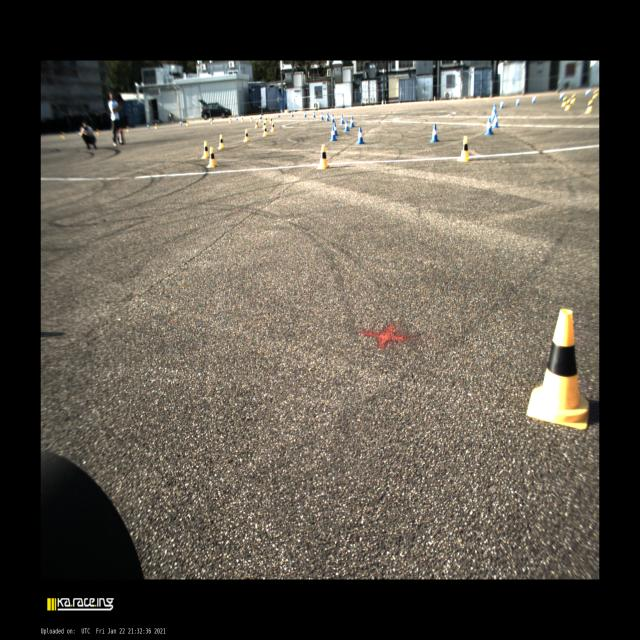blue_cone: (429, 124, 439, 142), (356, 127, 365, 145), (484, 117, 493, 135), (330, 126, 337, 141), (492, 114, 499, 128), (344, 120, 350, 132), (334, 123, 339, 136), (350, 116, 355, 127), (340, 114, 344, 124), (330, 114, 334, 123), (312, 111, 316, 118), (321, 112, 324, 120), (290, 110, 294, 116), (326, 114, 329, 121), (303, 111, 306, 117)
yellow_cone: (527, 310, 589, 430), (457, 136, 471, 162), (317, 144, 330, 168), (206, 147, 216, 168), (201, 141, 209, 159), (218, 134, 225, 150), (243, 129, 250, 142), (263, 125, 268, 136), (271, 122, 275, 131), (255, 120, 259, 128)
